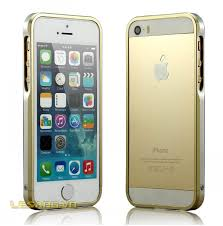iphone: (20, 8, 106, 211)
iphone5: (20, 8, 106, 211)
